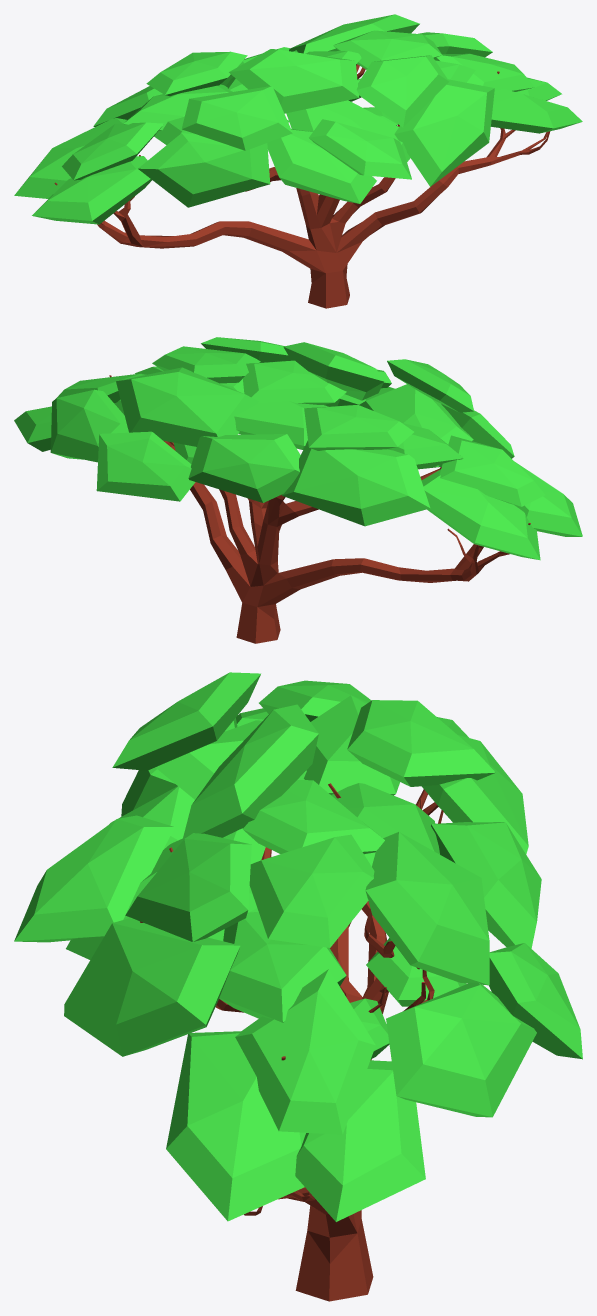
The model's file is pohon 6.fbx.
The picture shows the model from 3 angles, top to bottom: view 1: azimuth 30°, elevation 25°; view 2: azimuth 150°, elevation 25°; view 3: azimuth 270°, elevation 25°; orthographic projection. The views are drawn at different scales.
Parts seen in each view (by area): view 1: Tree Type0 04 Model; view 2: Tree Type0 04 Model; view 3: Tree Type0 04 Model.
Boxes of the visible parts, <box> form: Tree Type0 04 Model: <box>14,14,582,308</box>; Tree Type0 04 Model: <box>14,337,582,643</box>; Tree Type0 04 Model: <box>14,672,582,1301</box>.
Bounding box in the file's own units: 2311 × 1122 × 1151.
